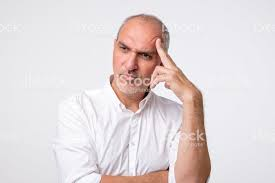white_male: (108, 13, 176, 101)
